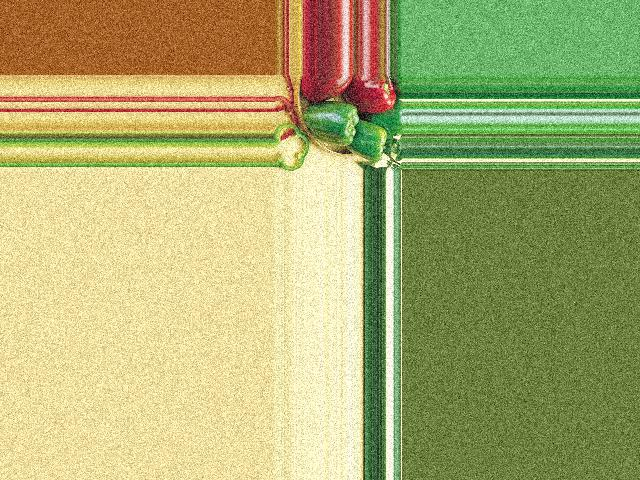bell_pepper: (300, 75, 353, 99)
